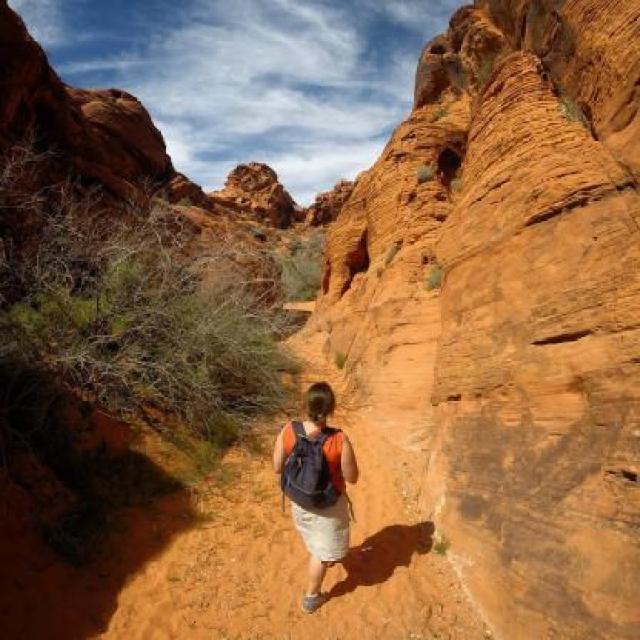backpack: (278, 429, 342, 511)
